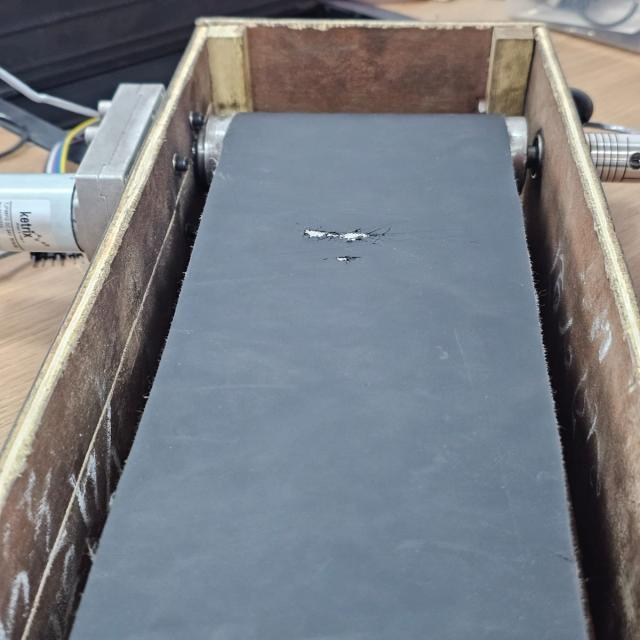crack: (302, 223, 392, 245), (428, 235, 480, 248), (390, 245, 420, 259), (323, 256, 362, 262), (396, 230, 428, 235)
